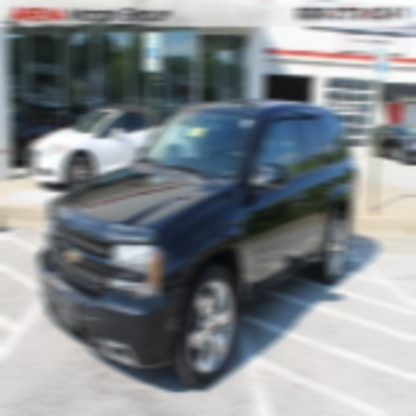Vehicle: (37, 106, 358, 390)
